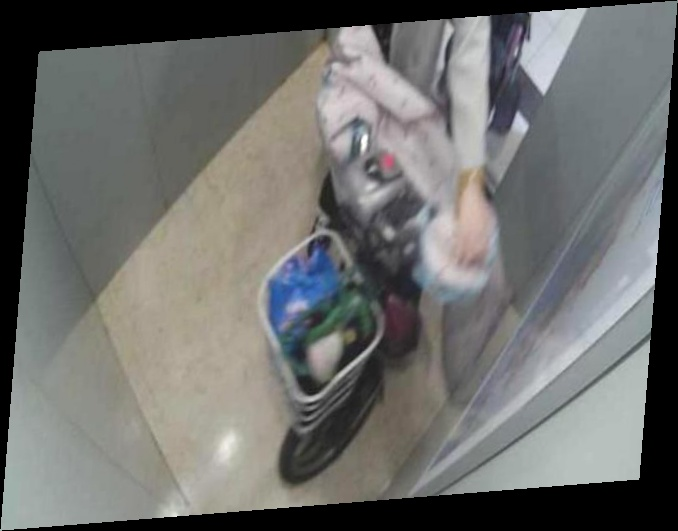electromobile: (259, 17, 535, 486)
